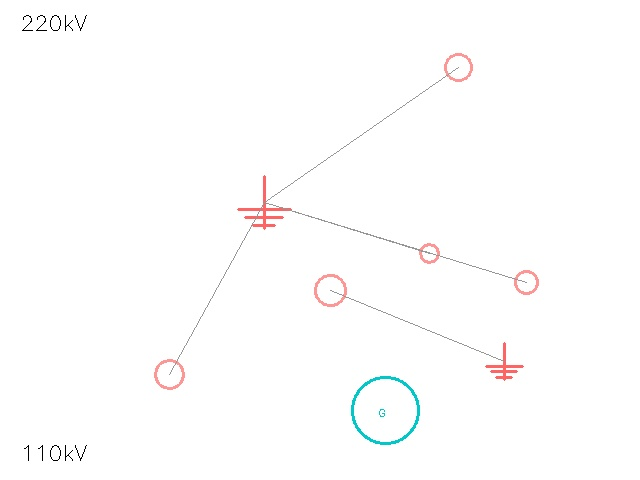fuse: (300, 260, 360, 320)
generator: (352, 377, 418, 443)
ground: (238, 176, 290, 228), (486, 343, 522, 379)
load_break_switch: (504, 260, 548, 304)
reactor: (140, 345, 198, 403), (432, 41, 484, 93), (410, 234, 448, 272)
